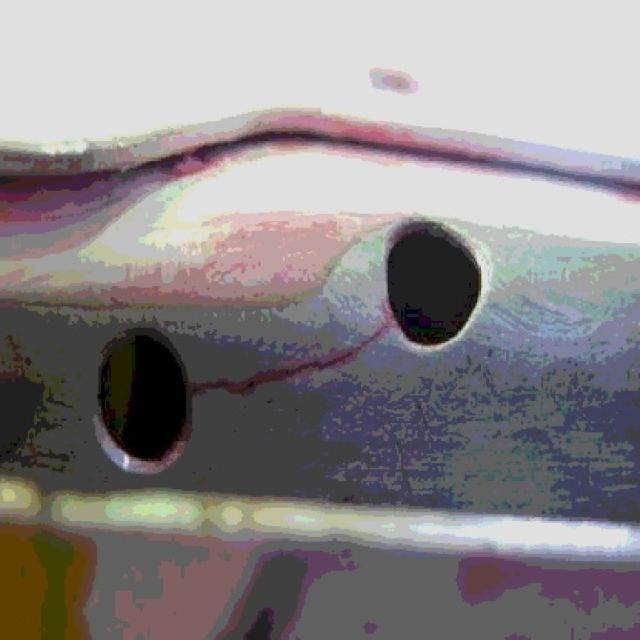crack: (353, 324, 398, 352), (241, 366, 304, 386), (303, 352, 357, 374), (190, 378, 249, 395)
